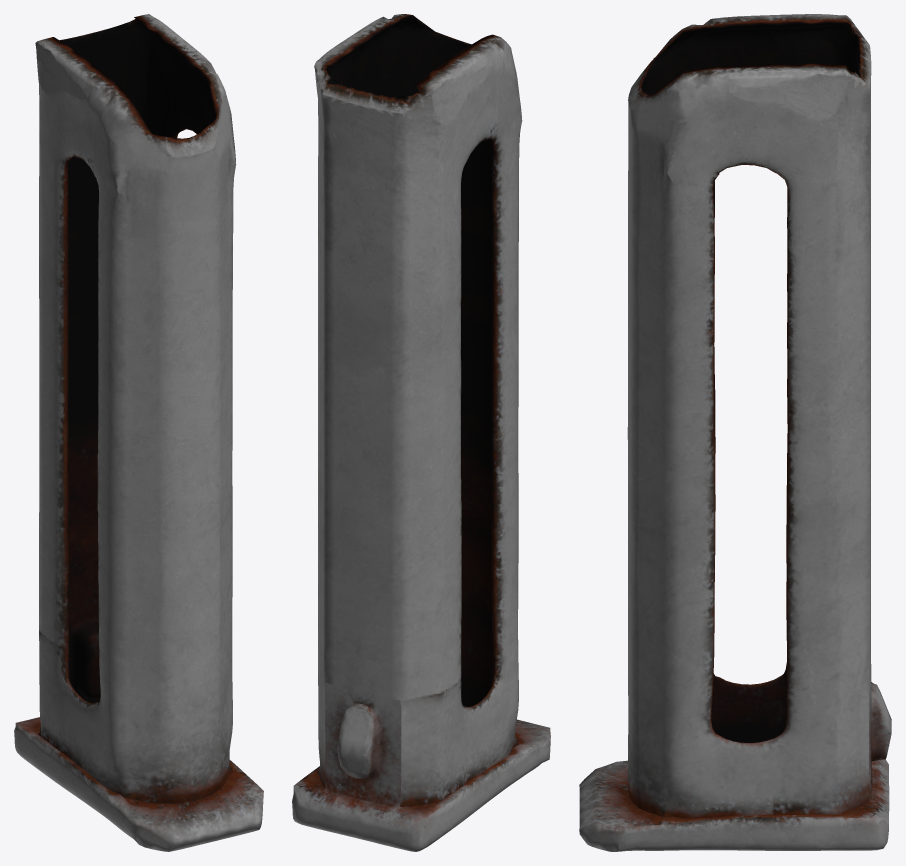
3 views of the same model, side by side, from view 1: azimuth 30°, elevation 25°; view 2: azimuth 150°, elevation 25°; view 3: azimuth 270°, elevation 25° (orthographic). The views are drawn at different scales.
Visible parts, largest first — view 1: PM3D_Cube3D_3; view 2: PM3D_Cube3D_3; view 3: PM3D_Cube3D_3.
Boxes of the visible parts, x1=… form: PM3D_Cube3D_3: x1=14, y1=14, x2=263, y2=851; PM3D_Cube3D_3: x1=292, y1=14, x2=550, y2=851; PM3D_Cube3D_3: x1=579, y1=14, x2=891, y2=851.
Bounding box in the file's own units: 2.17 × 11.86 × 4.26.
Materials: 1 (1 with a texture image).
